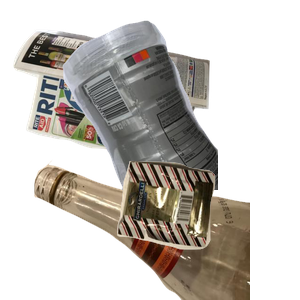glass: (31, 120, 271, 300)
paper: (11, 27, 213, 185)
plastic: (60, 18, 300, 198)
trash: (115, 158, 300, 300)
